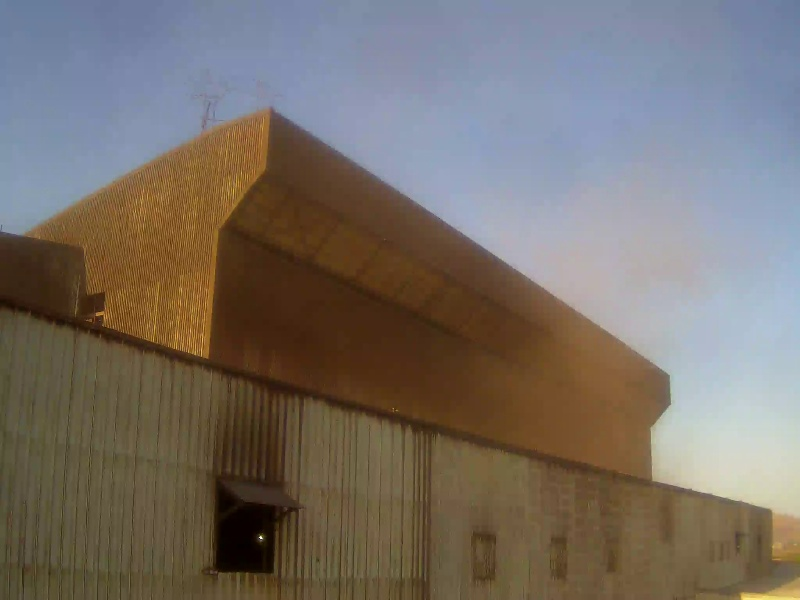bom: (57, 4, 326, 246)
pessimo: (432, 94, 717, 483)
